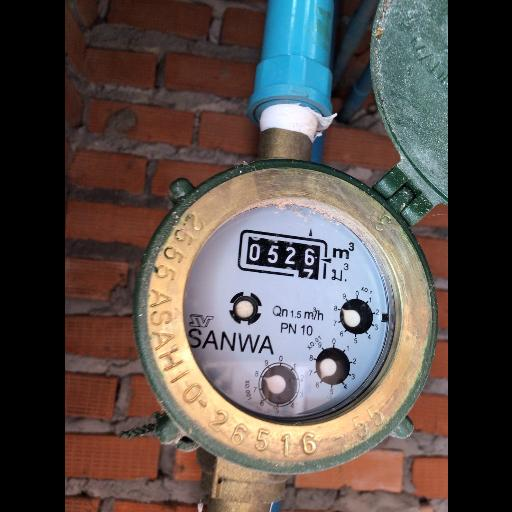0: (245, 236, 265, 266)
2: (281, 241, 302, 271)
5: (263, 239, 284, 268)
6: (297, 244, 321, 281)
border_water_meter_number: (236, 229, 331, 282)
